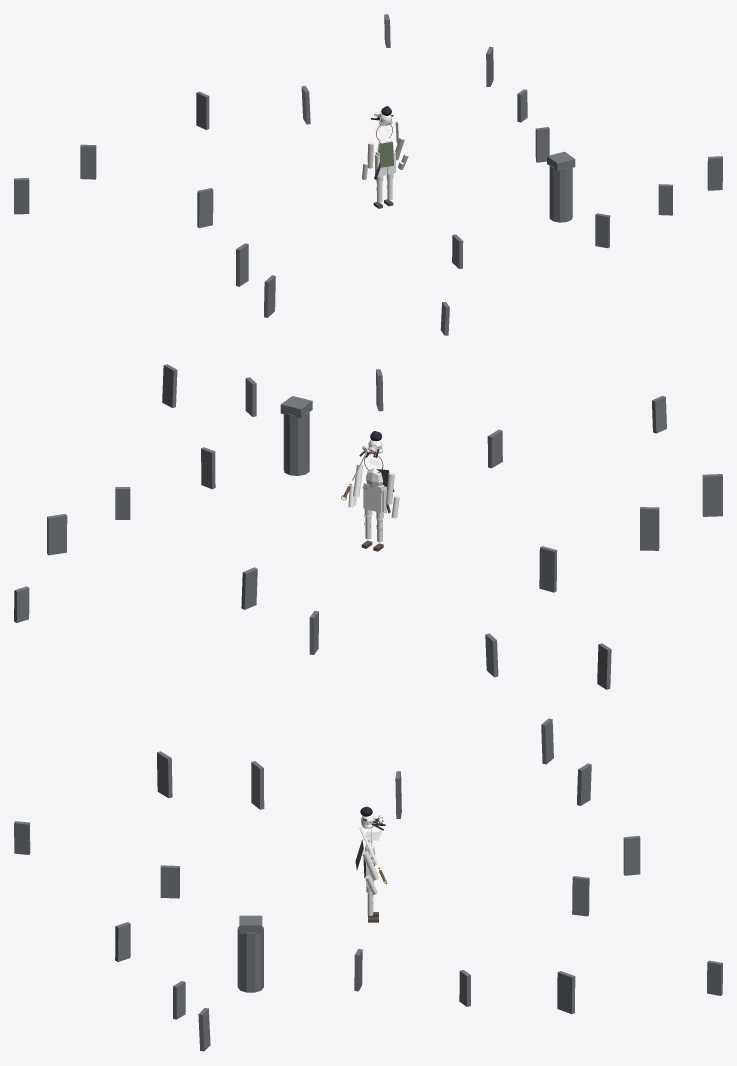
Rendered from ronin_cinematic_v0.7.glb.
The picture shows the model from 3 angles, top to bottom: view 1: azimuth 30°, elevation 25°; view 2: azimuth 150°, elevation 25°; view 3: azimuth 270°, elevation 25°; orthographic projection. The views are drawn at different scales.
Visible parts, largest first — view 1: Env_StoneLantern, Env_Gravestone_8, Env_Gravestone_6, Env_Gravestone_7, Env_Gravestone_15, Env_Gravestone_9; view 2: Env_StoneLantern, Env_Gravestone_10, Env_Gravestone_9, Env_Gravestone_2, Env_Gravestone_8, Env_Gravestone_4, Env_Gravestone_7, Env_Gravestone_15, Env_Gravestone_0, Env_Gravestone_3, Env_Gravestone_1, Env_LanternCap (+1 smaller); view 3: Env_StoneLantern, Env_Gravestone_2, Env_Gravestone_4, Env_Gravestone_5, Env_Gravestone_12, Env_Gravestone_10, Env_Gravestone_13, Env_Gravestone_9, Env_Gravestone_6, Env_Gravestone_11, Env_Gravestone_3.
Boxes of the visible parts, box(x1,y1,x2,y2) form: Env_StoneLantern: box(549, 165, 572, 222); Env_Gravestone_8: box(197, 188, 213, 228); Env_Gravestone_6: box(80, 144, 96, 179); Env_Gravestone_7: box(14, 178, 29, 214); Env_Gravestone_15: box(707, 156, 722, 190); Env_Gravestone_9: box(236, 243, 248, 286); Env_StoneLantern: box(283, 411, 309, 475); Env_Gravestone_10: box(702, 474, 722, 516); Env_Gravestone_9: box(640, 507, 659, 550); Env_Gravestone_2: box(47, 514, 67, 555); Env_Gravestone_8: box(539, 546, 557, 592); Env_Gravestone_4: box(241, 567, 257, 609); Env_Gravestone_7: box(597, 643, 611, 689); Env_Gravestone_15: box(162, 364, 177, 407); Env_Gravestone_0: box(201, 447, 215, 489); Env_Gravestone_3: box(14, 586, 29, 622); Env_Gravestone_1: box(115, 487, 130, 519); Env_LanternCap: box(280, 396, 312, 418); Env_StoneLantern: box(237, 926, 263, 992); Env_Gravestone_2: box(557, 971, 575, 1013); Env_Gravestone_4: box(572, 876, 589, 916); Env_Gravestone_5: box(623, 835, 640, 875); Env_Gravestone_12: box(160, 865, 179, 898); Env_Gravestone_10: box(157, 751, 172, 798); Env_Gravestone_13: box(115, 922, 130, 961); Env_Gravestone_9: box(251, 761, 264, 809); Env_Gravestone_6: box(577, 763, 591, 805); Env_Gravestone_11: box(14, 821, 30, 854); Env_Gravestone_3: box(707, 960, 722, 995).
Size of what is drawn, in the model's own units: 10.83 by 1.92 by 10.81.
